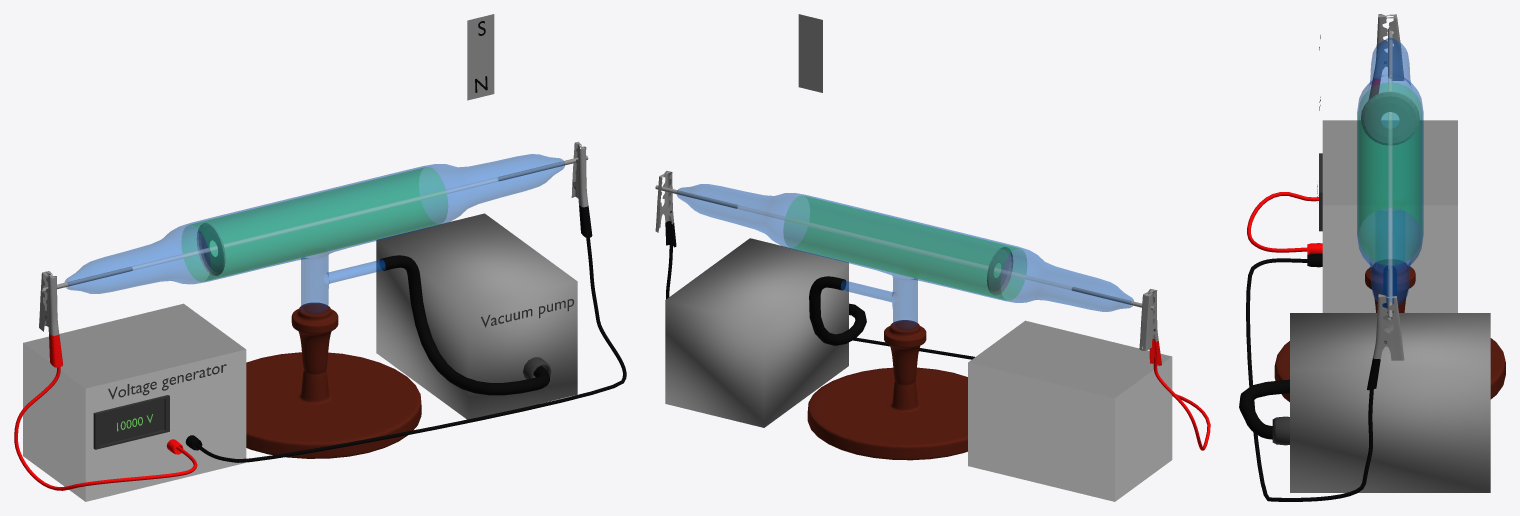
3 views of the same model, side by side, from view 1: azimuth 30°, elevation 25°; view 2: azimuth 150°, elevation 25°; view 3: azimuth 270°, elevation 25° (orthographic). The views are drawn at different scales.
Parts seen in each view (by area): view 1: Glass Tube with stand_3, Voltage generator_10, Vacuum pump_6, Phosphorescent background_4, Wire_11, Magnet_0, Visible cathode ray_7, Crocodile clip R_9, Wire _12, Crocodile clip L_8, Split_5; view 2: Glass Tube with stand_3, Voltage generator_10, Vacuum pump_6, Phosphorescent background_4, Magnet_0, Visible cathode ray_7, Crocodile clip R_9, Crocodile clip L_8, Split_5, Wire _12, Wire_11; view 3: Vacuum pump_6, Voltage generator_10, Glass Tube with stand_3, Phosphorescent background_4, Split_5, Wire_11, Crocodile clip L_8, Crocodile clip R_9, Visible cathode ray_7, Wire _12.
Part boxes in pixels (bbox=[...]): Glass Tube with stand_3: bbox=[65, 154, 564, 458]; Voltage generator_10: bbox=[23, 303, 246, 501]; Vacuum pump_6: bbox=[376, 213, 577, 419]; Phosphorescent background_4: bbox=[182, 167, 447, 281]; Wire_11: bbox=[194, 238, 626, 462]; Magnet_0: bbox=[467, 14, 494, 100]; Visible cathode ray_7: bbox=[132, 177, 498, 270]; Crocodile clip R_9: bbox=[39, 271, 62, 367]; Wire _12: bbox=[14, 367, 197, 490]; Crocodile clip L_8: bbox=[571, 141, 592, 237]; Split_5: bbox=[196, 223, 225, 275]; Glass Tube with stand_3: bbox=[676, 184, 1133, 460]; Voltage generator_10: bbox=[968, 320, 1172, 501]; Vacuum pump_6: bbox=[665, 238, 866, 427]; Phosphorescent background_4: bbox=[784, 196, 1026, 300]; Magnet_0: bbox=[798, 14, 822, 92]; Visible cathode ray_7: bbox=[737, 205, 1072, 290]; Crocodile clip R_9: bbox=[1139, 289, 1161, 365]; Crocodile clip L_8: bbox=[655, 171, 676, 247]; Split_5: bbox=[987, 247, 1013, 295]; Wire _12: bbox=[1153, 356, 1210, 450]; Wire_11: bbox=[666, 239, 974, 359]; Vacuum pump_6: bbox=[1239, 266, 1490, 492]; Voltage generator_10: bbox=[1307, 120, 1457, 312]; Glass Tube with stand_3: bbox=[1274, 37, 1505, 402]; Phosphorescent background_4: bbox=[1358, 83, 1421, 264]; Split_5: bbox=[1361, 91, 1419, 145]; Wire_11: bbox=[1246, 258, 1373, 501]; Crocodile clip L_8: bbox=[1367, 294, 1404, 390]; Crocodile clip R_9: bbox=[1369, 14, 1404, 99]; Visible cathode ray_7: bbox=[1388, 75, 1392, 268]; Wire _12: bbox=[1247, 192, 1318, 252].
Size of the model in its own units: 10.77 by 6.85 by 3.94.
Materials: 9 (2 with a texture image).
